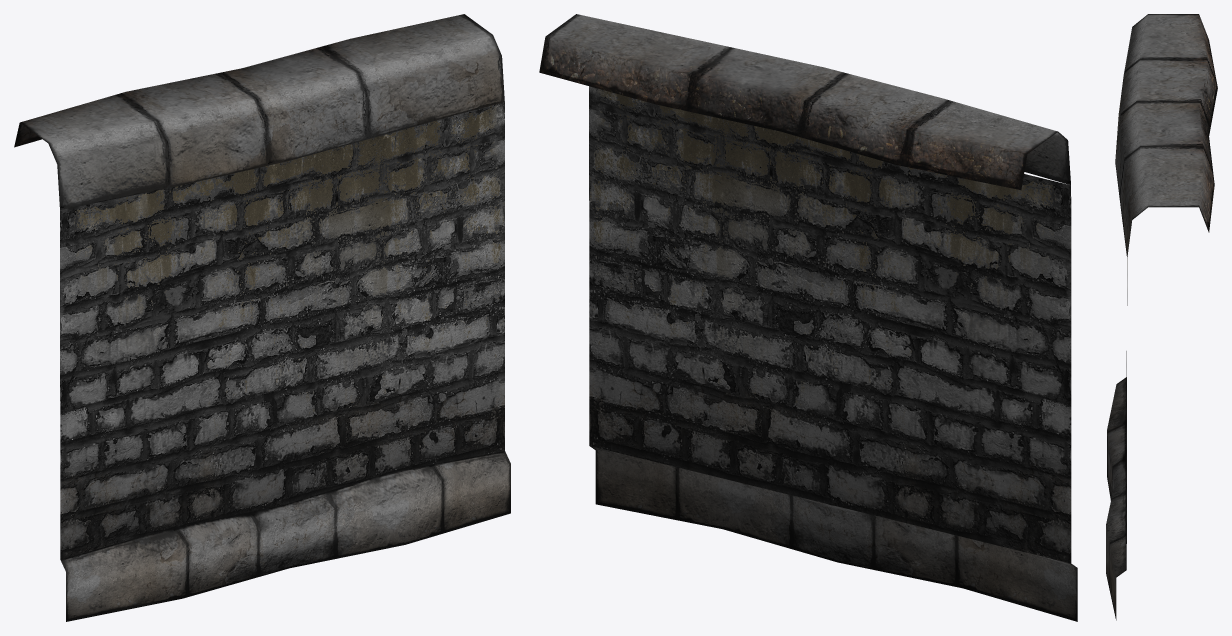
File: wall.obj
3 renders of one model, left to right at view 1: azimuth 30°, elevation 25°; view 2: azimuth 150°, elevation 25°; view 3: azimuth 270°, elevation 25°, orthographic. The views are drawn at different scales.
Visible parts, largest first — view 1: Grim_Bear_Wall; view 2: Grim_Bear_Wall; view 3: Grim_Bear_Wall.
Part boxes in pixels (bbox=[...]): Grim_Bear_Wall: bbox=[14, 14, 510, 621]; Grim_Bear_Wall: bbox=[539, 14, 1077, 621]; Grim_Bear_Wall: bbox=[1106, 14, 1217, 620].
Bounding box in the file's own units: 256 × 256 × 62.57.
Materials: 1 (1 with a texture image).
